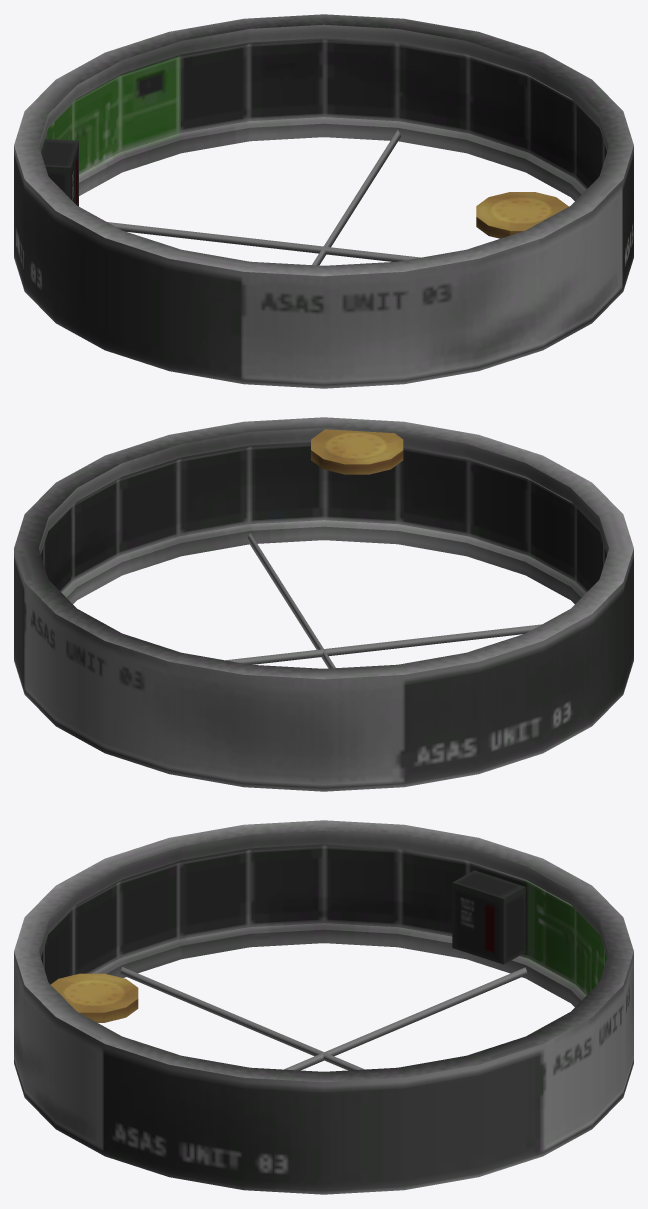
File: Large_Reaction_Wheel_SAS.glb
3 views of the same model, one above another, from view 1: azimuth 30°, elevation 25°; view 2: azimuth 150°, elevation 25°; view 3: azimuth 270°, elevation 25° (orthographic).
Visible parts, largest first — view 1: asas; view 2: asas; view 3: asas.
Boxes of the visible parts, <box> form: asas: <box>14,14,633,388</box>; asas: <box>14,417,633,791</box>; asas: <box>14,820,633,1194</box>.
Size of the model in its own units: 2.5 by 0.5 by 2.5.
Materials: 1 (1 with a texture image).
